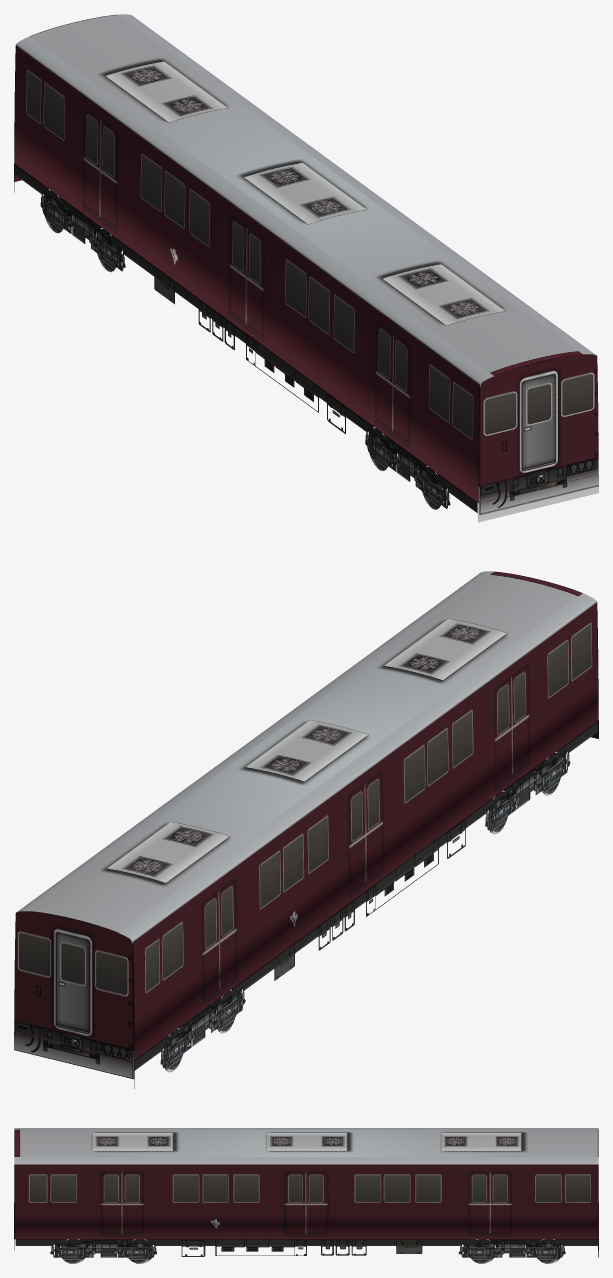
Rendered from car2.glb.
The picture shows the model from 3 angles, top to bottom: view 1: azimuth 30°, elevation 25°; view 2: azimuth 150°, elevation 25°; view 3: azimuth 270°, elevation 25°; orthographic projection. The views are drawn at different scales.
Visible parts, largest first — view 1: noseden5100-car2; view 2: noseden5100-car2; view 3: noseden5100-car2.
Boxes of the visible parts, bbox=[...] form: noseden5100-car2: bbox=[14, 14, 598, 522]; noseden5100-car2: bbox=[14, 571, 598, 1088]; noseden5100-car2: bbox=[14, 1128, 598, 1263].
Bounding box in the file's own units: 2.75 × 3.63 × 18.47.
7 materials, 6 textured.
